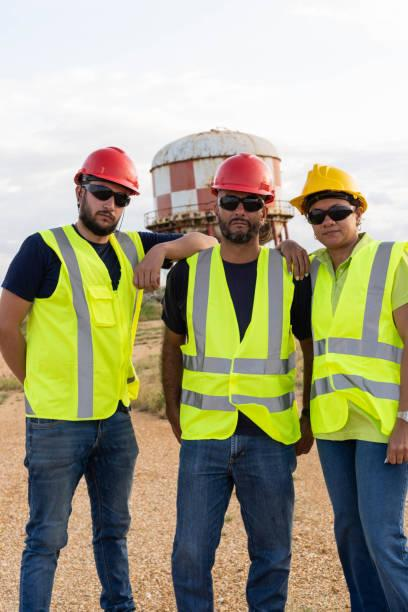goggle: (78, 179, 132, 213), (210, 190, 275, 215), (297, 204, 369, 224)
helmet: (68, 134, 159, 198), (201, 140, 285, 203), (295, 151, 370, 219)
vest: (13, 217, 163, 439), (168, 230, 311, 454), (308, 232, 408, 454)
